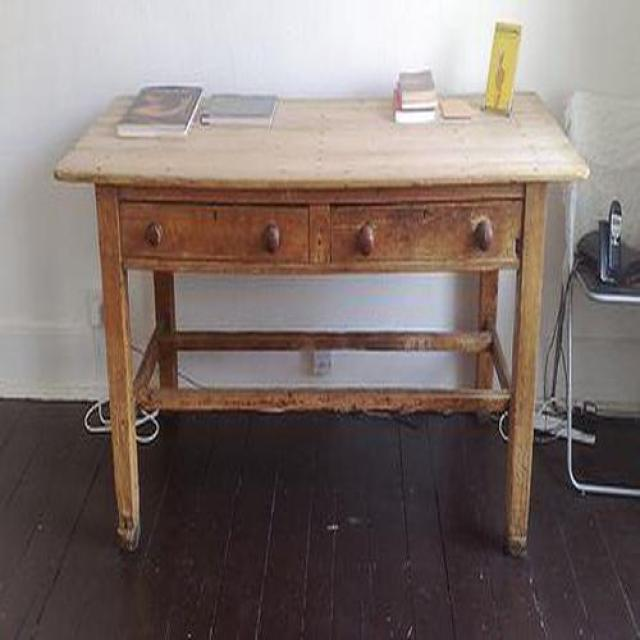table: (50, 86, 589, 559)
